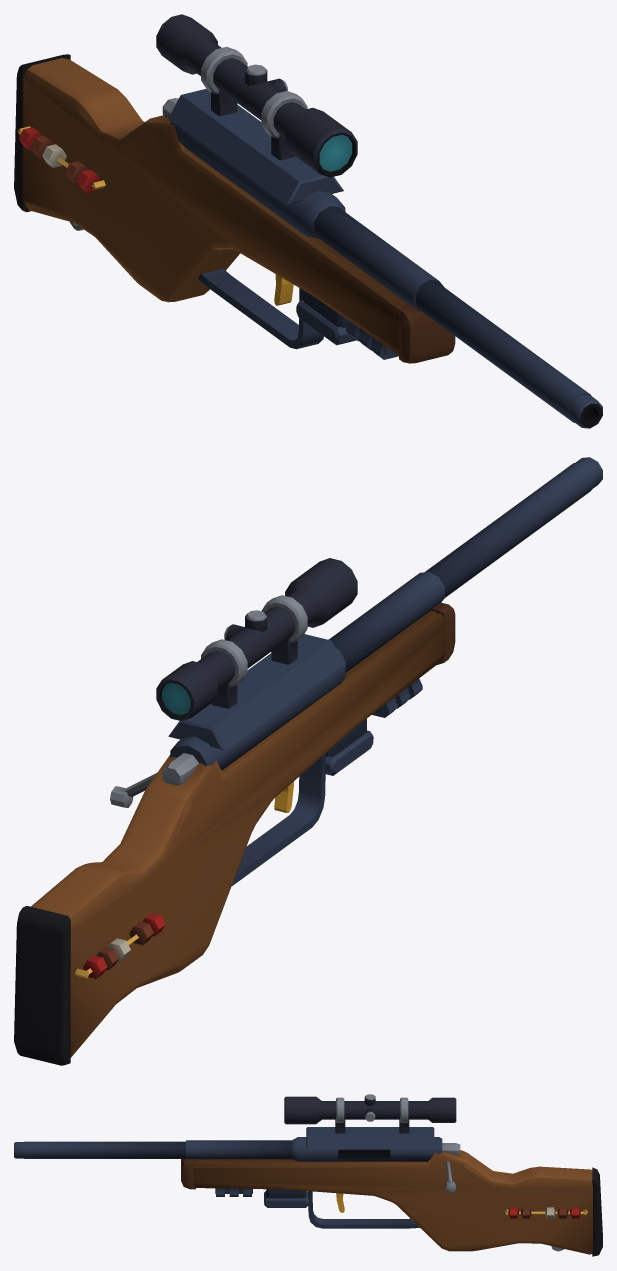
The model's file is bean_counter.glb.
3 views of the same model, one above another, from view 1: azimuth 30°, elevation 25°; view 2: azimuth 150°, elevation 25°; view 3: azimuth 270°, elevation 25° (orthographic). The views are drawn at different scales.
Visible parts, largest first — view 1: frame, scope_builtin, mag; view 2: frame, scope_builtin, bolt_handle, mag; view 3: frame, scope_builtin, mag, bolt_handle.
Boxes of the visible parts, x1,y1,x2,y2 form: frame: [14, 54, 602, 428]; scope_builtin: [156, 14, 357, 177]; mag: [296, 291, 356, 345]; frame: [14, 457, 602, 1065]; scope_builtin: [156, 558, 357, 721]; bolt_handle: [110, 753, 198, 807]; mag: [325, 718, 373, 775]; frame: [14, 1127, 602, 1256]; scope_builtin: [284, 1094, 456, 1133]; mag: [264, 1189, 308, 1207]; bolt_handle: [442, 1143, 460, 1193].
Size of the model in its own units: 0.3401 by 0.8547 by 2.94.
Materials: 1 (1 with a texture image).
